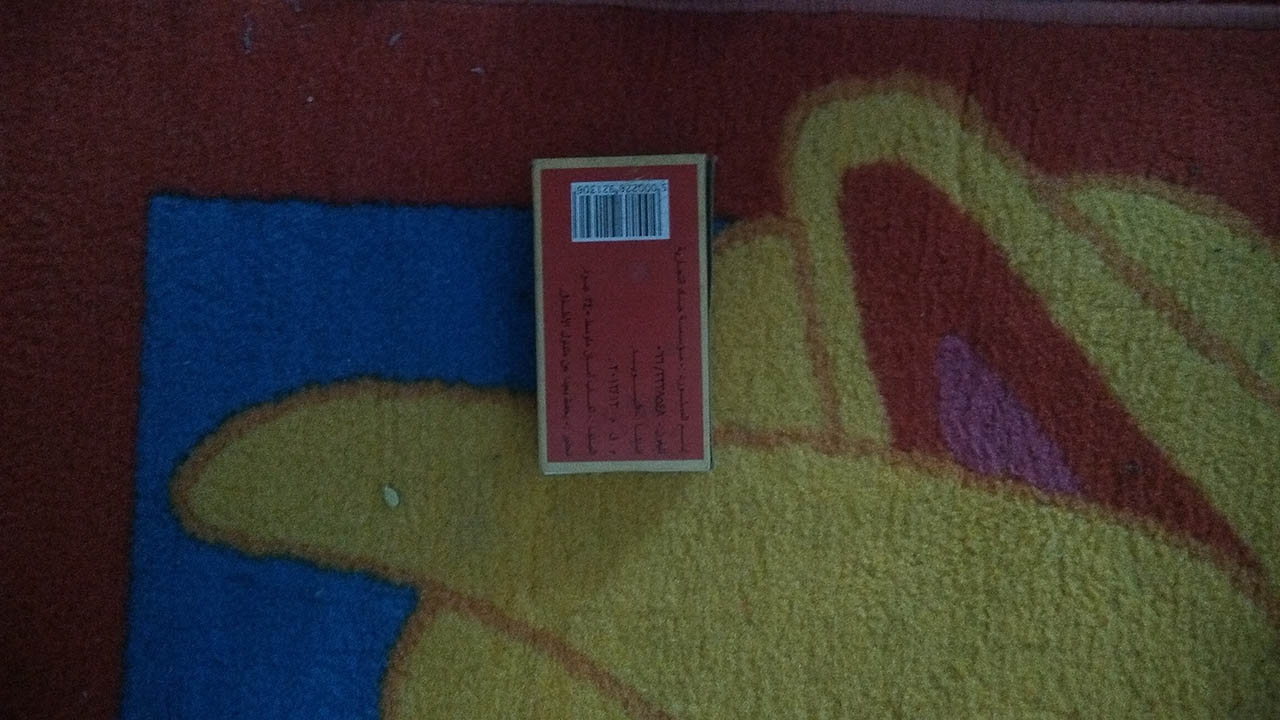match-sticks .90$: (516, 128, 742, 495)
